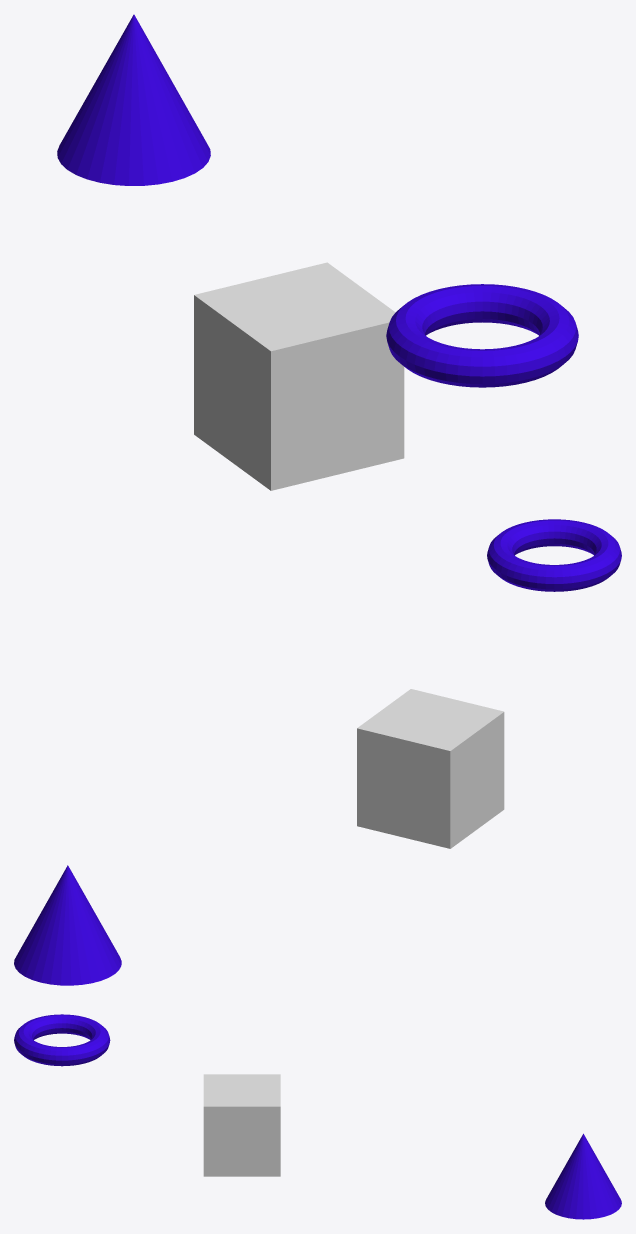
Rendered from submeshes.gltf.
The picture shows the model from 3 angles, top to bottom: view 1: azimuth 30°, elevation 25°; view 2: azimuth 150°, elevation 25°; view 3: azimuth 270°, elevation 25°; orthographic projection. The views are drawn at different scales.
Parts seen in each view (by area): view 1: Cube, Cone, Torus; view 2: Cube, Cone, Torus; view 3: Cube, Cone, Torus.
Boxes of the visible parts, box(x1,y1,x2,y2) form: Cube: box(194, 262, 404, 490); Cone: box(57, 14, 210, 185); Torus: box(386, 284, 578, 387); Cube: box(357, 689, 504, 848); Cone: box(14, 865, 121, 985); Torus: box(487, 519, 621, 591); Cube: box(203, 1074, 280, 1176); Cone: box(545, 1133, 621, 1219); Torus: box(14, 1014, 110, 1066).
Bounding box in the file's own units: 4.84 × 3.71 × 15.79.
